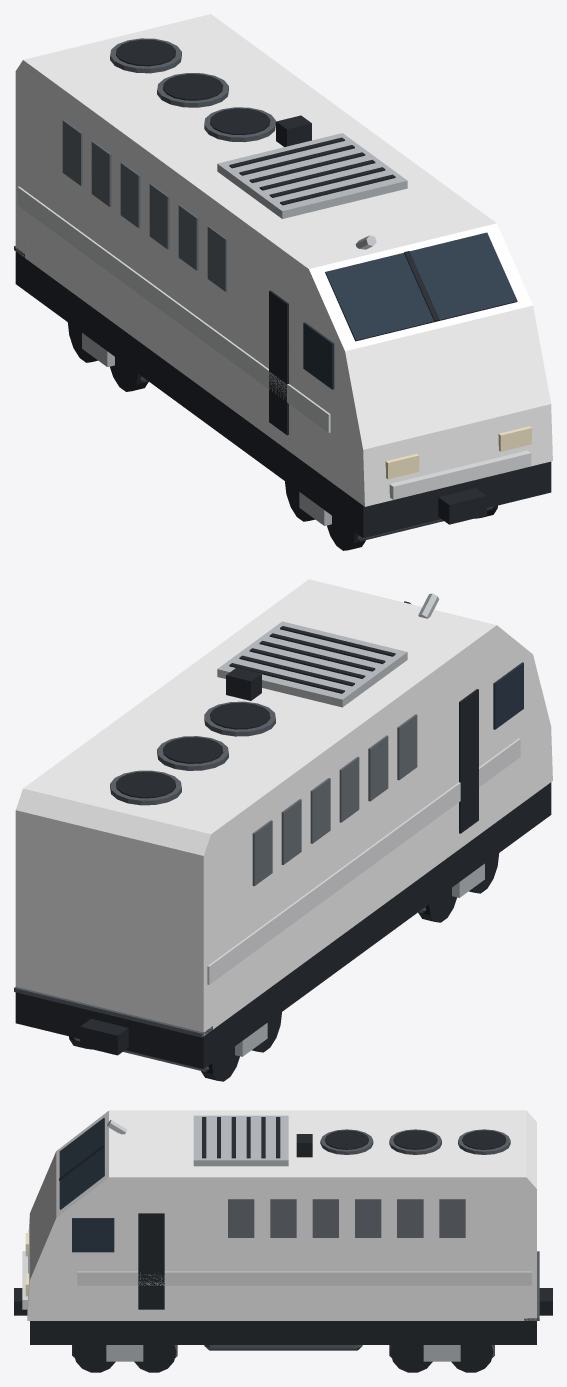
File: train_engine.glb
3 renders of one model, top to bottom at view 1: azimuth 30°, elevation 25°; view 2: azimuth 150°, elevation 25°; view 3: azimuth 270°, elevation 25°, orthographic. The views are drawn at different scales.
Parts seen in each view (by area): view 1: TrainEngine; view 2: TrainEngine; view 3: TrainEngine.
Part boxes in pixels (<box>): TrainEngine: <box>14,14,552,550</box>; TrainEngine: <box>14,579,552,1081</box>; TrainEngine: <box>14,1110,552,1372</box>.
Size of the model in its own units: 0.306 by 0.4539 by 1.02.
